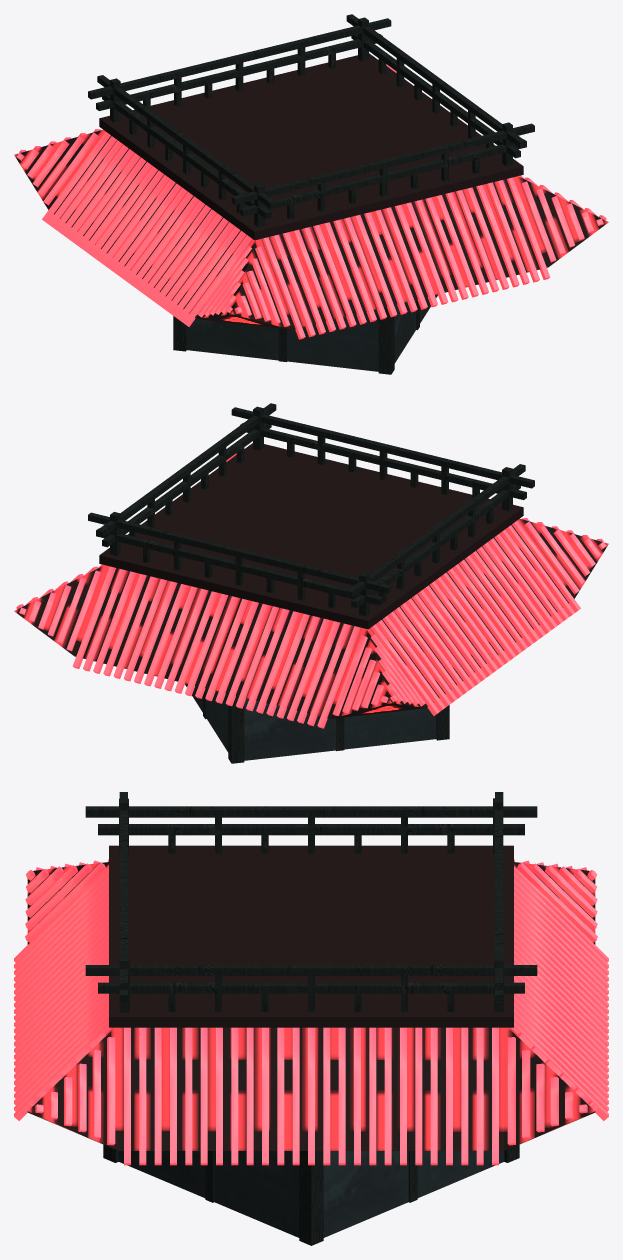
The model's file is S1_NJunoto_Base.fbx.
3 views of the same model, one above another, from view 1: azimuth 30°, elevation 25°; view 2: azimuth 150°, elevation 25°; view 3: azimuth 270°, elevation 25° (orthographic). The views are drawn at different scales.
Parts seen in each view (by area): view 1: Base, Kawara; view 2: Base, Kawara; view 3: Base, Kawara.
Boxes of the visible parts, x1,y1,x2,y2 form: Base: [14, 14, 608, 374]; Kawara: [16, 64, 606, 339]; Base: [14, 403, 608, 763]; Kawara: [16, 453, 606, 728]; Base: [27, 792, 595, 1245]; Kawara: [14, 859, 608, 1165].
Size of the model in its own units: 1675 by 865 by 1675.
